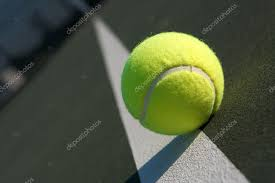tennis_ball: (121, 31, 224, 136)
